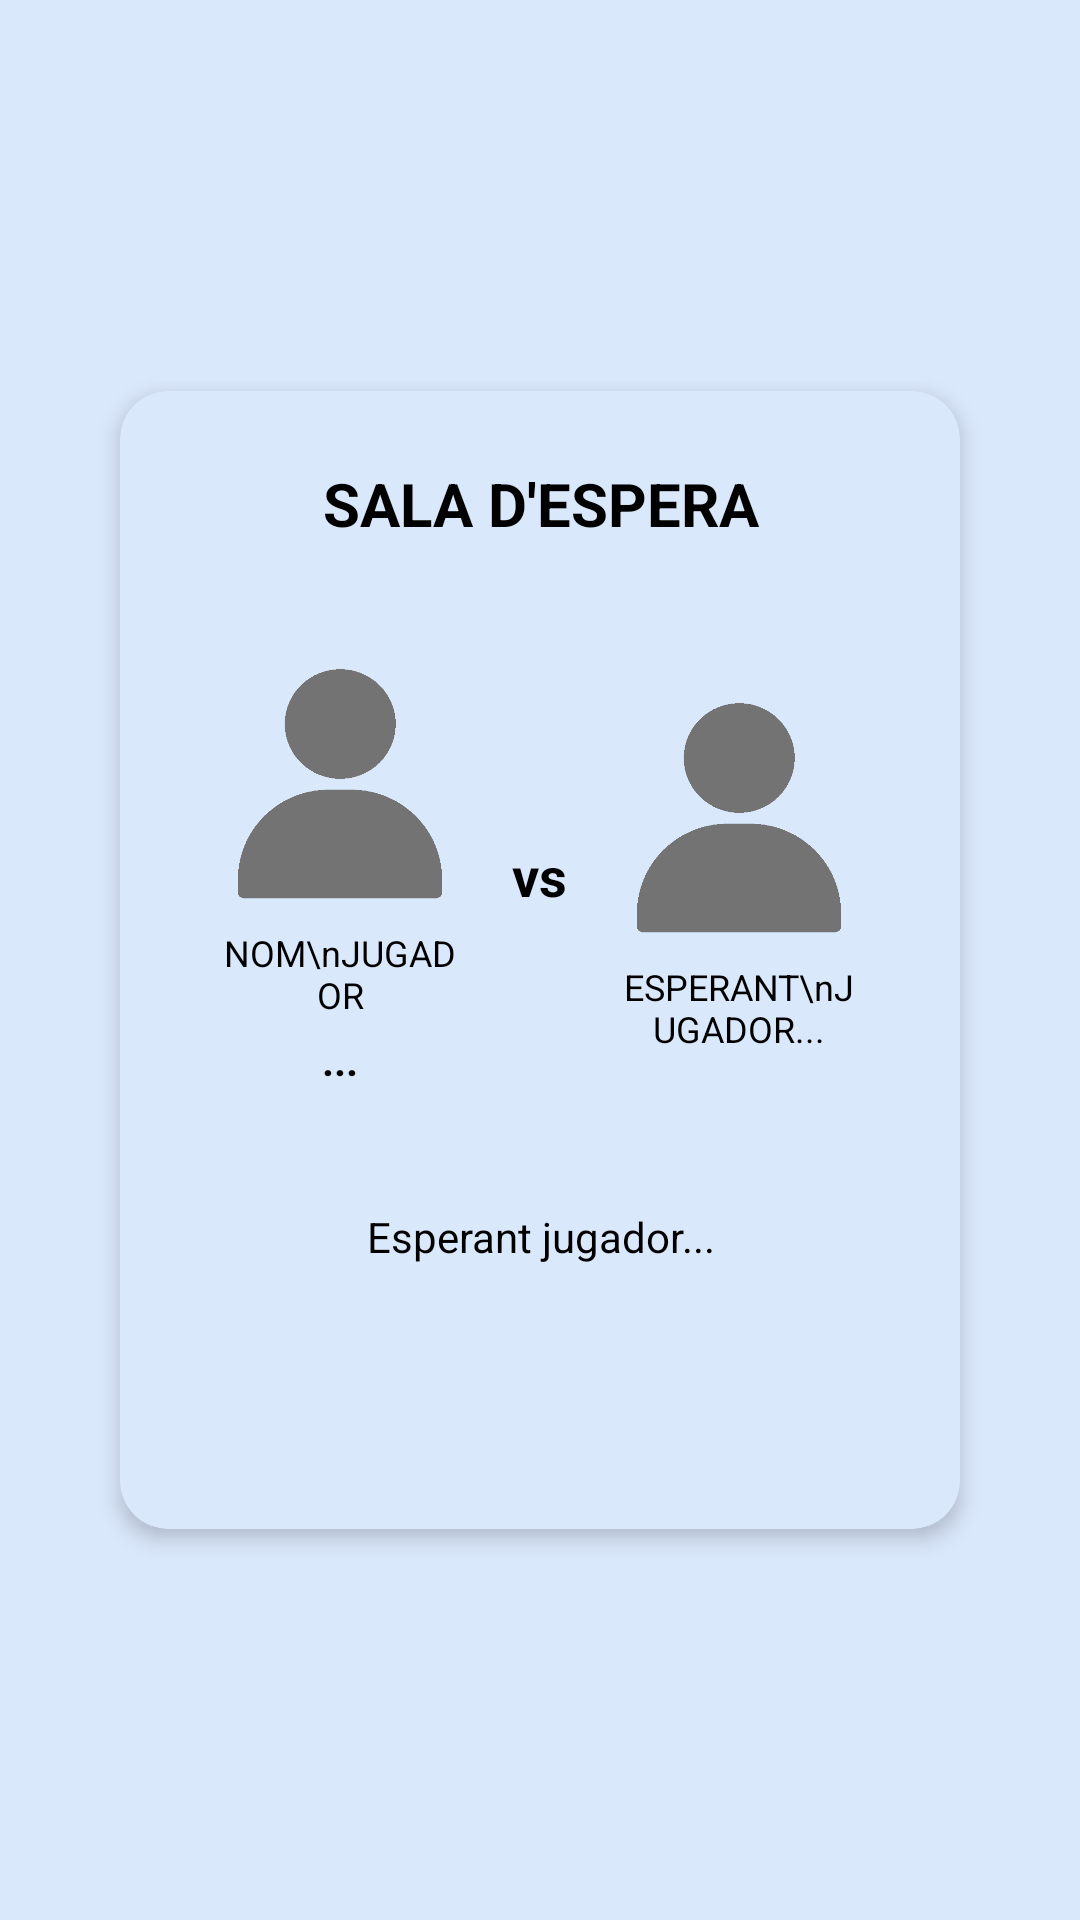

Point at icon controls on the screen. Image size 1080w x 1920h, points as point (x, y).
Jugador 1: point (340, 784)
Jugador 2: point (739, 818)
